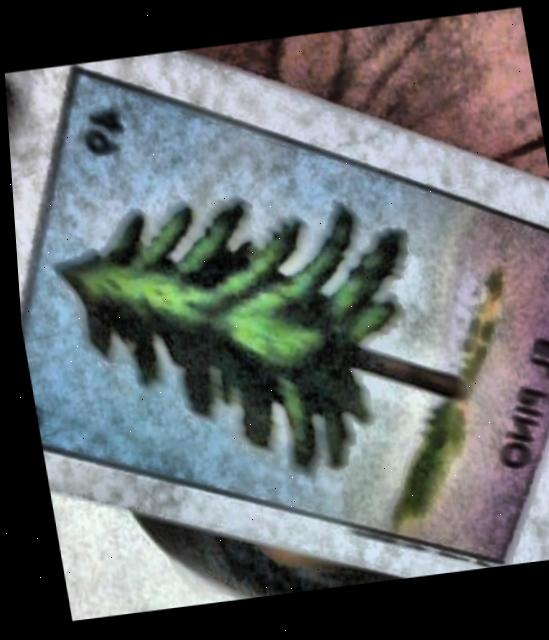El Pino: (17, 73, 549, 566)
